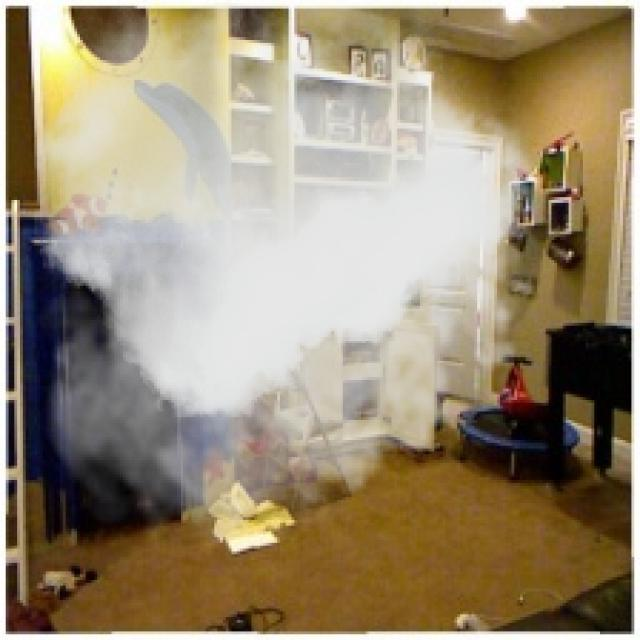smoke: (34, 3, 552, 563)
